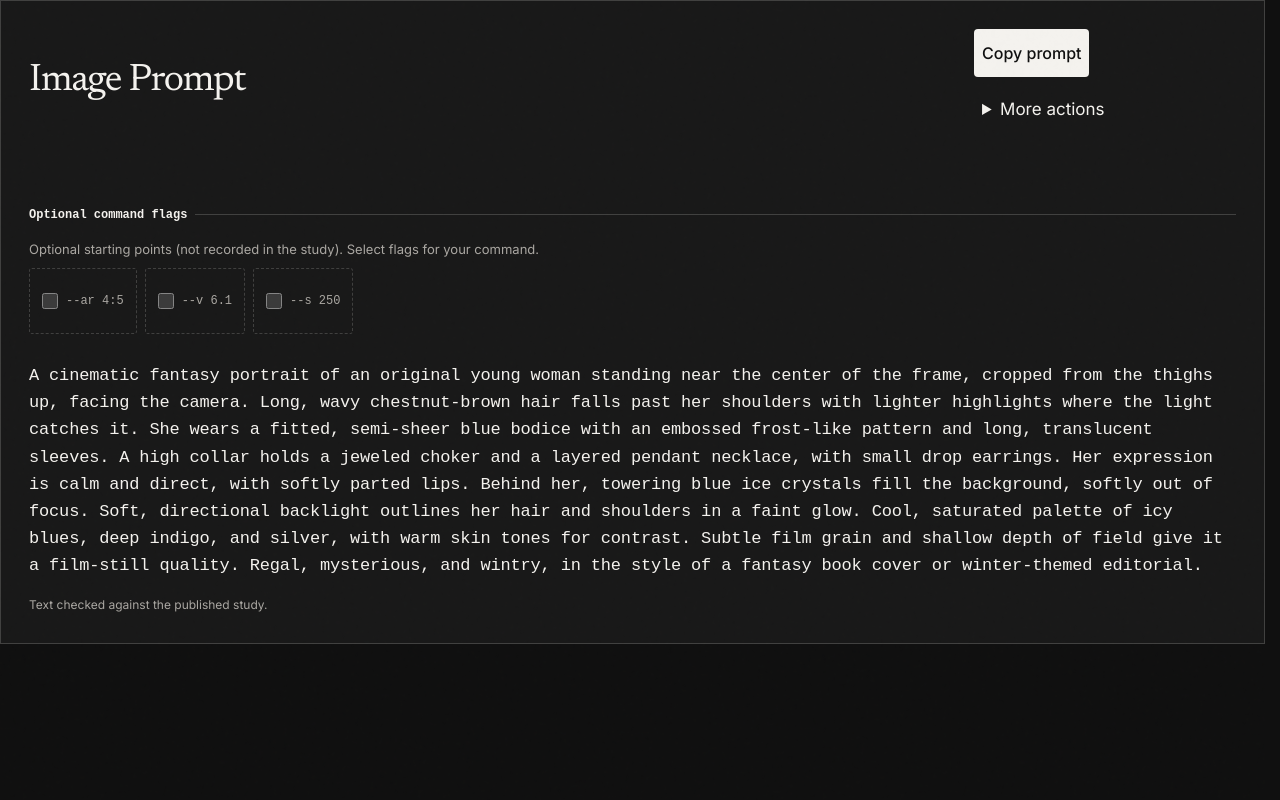
it: copies the full exact prompt with confirmation
Click the button "Copy prompt": [1032, 53] box [974,29,1089,77]
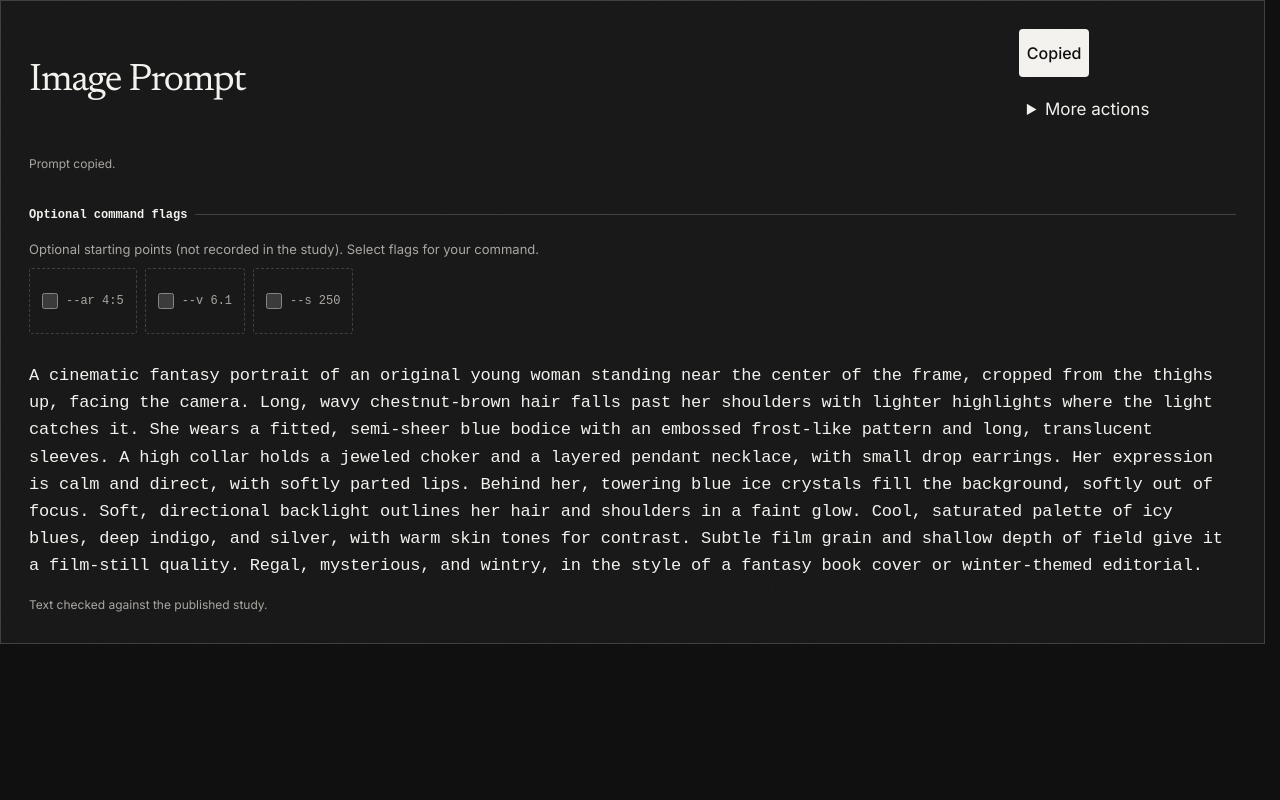
Expected: the message reads "Prompt copied.", [29,156,116,171]
